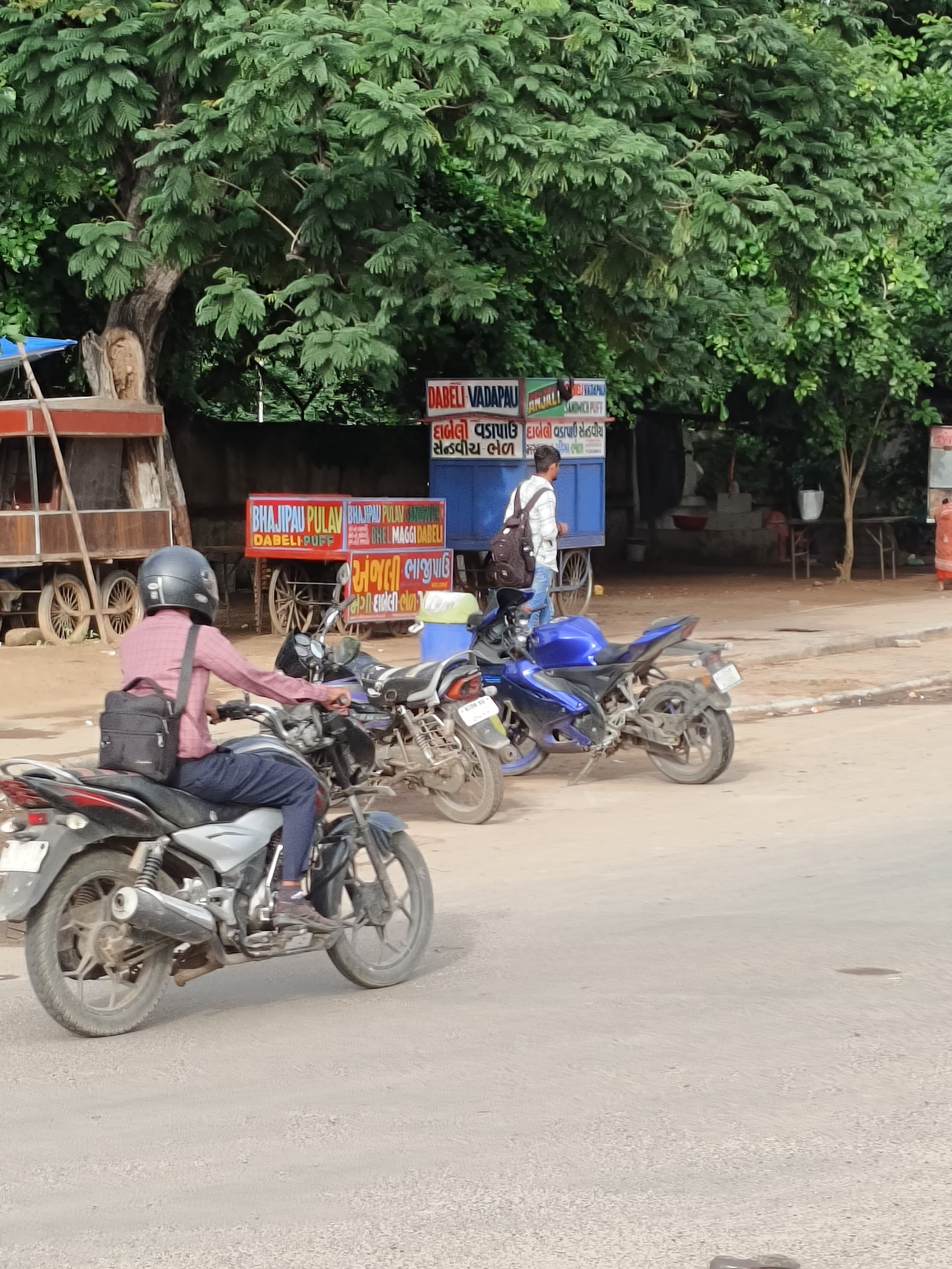BikeWithRider: (0, 536, 450, 1048)
Helmet: (126, 537, 231, 630)
